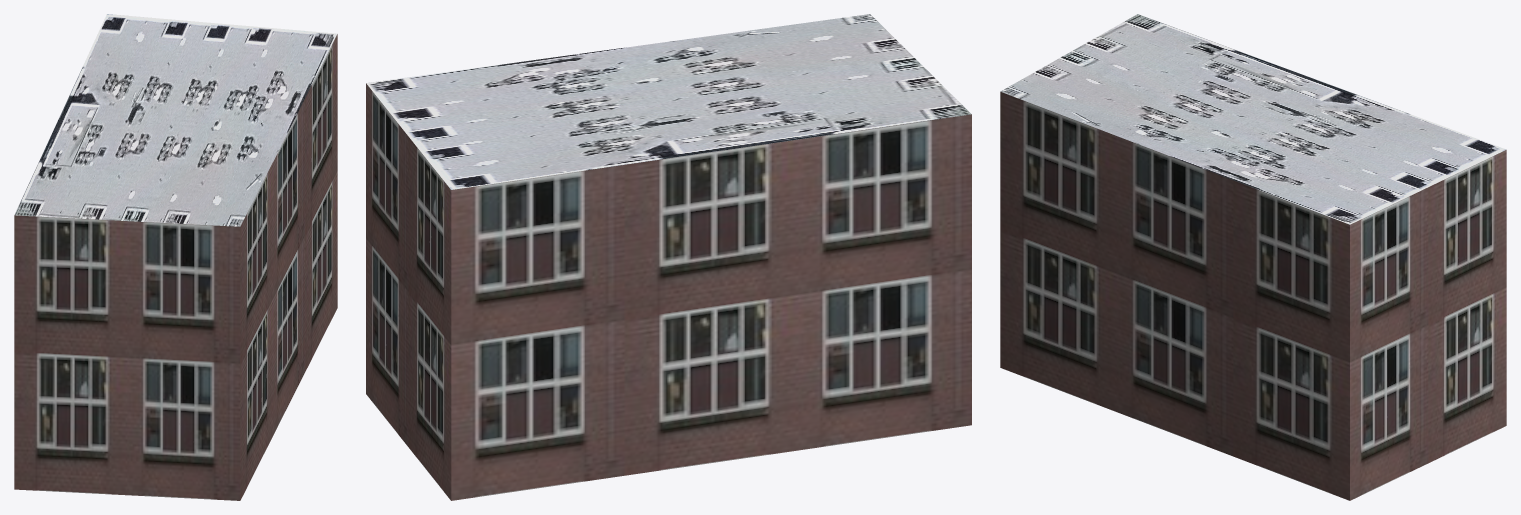
File: ResTex__232.fbx
3 views of the same model, side by side, from view 1: azimuth 30°, elevation 25°; view 2: azimuth 150°, elevation 25°; view 3: azimuth 270°, elevation 25° (orthographic). The views are drawn at different scales.
Parts seen in each view (by area): view 1: CityEngineMaterial_12_m, CityEngineMaterial_4_m; view 2: CityEngineMaterial_12_m, CityEngineMaterial_4_m; view 3: CityEngineMaterial_12_m, CityEngineMaterial_4_m.
Part boxes in pixels (x1,y1,x2,y2): CityEngineMaterial_12_m: (14,34,337,500); CityEngineMaterial_4_m: (14,14,337,226); CityEngineMaterial_12_m: (366,83,971,500); CityEngineMaterial_4_m: (366,14,971,189); CityEngineMaterial_12_m: (1000,92,1506,500); CityEngineMaterial_4_m: (1000,14,1506,224).
Size of the model in its own units: 9.82 by 6 by 9.98.
2 materials, 2 textured.
